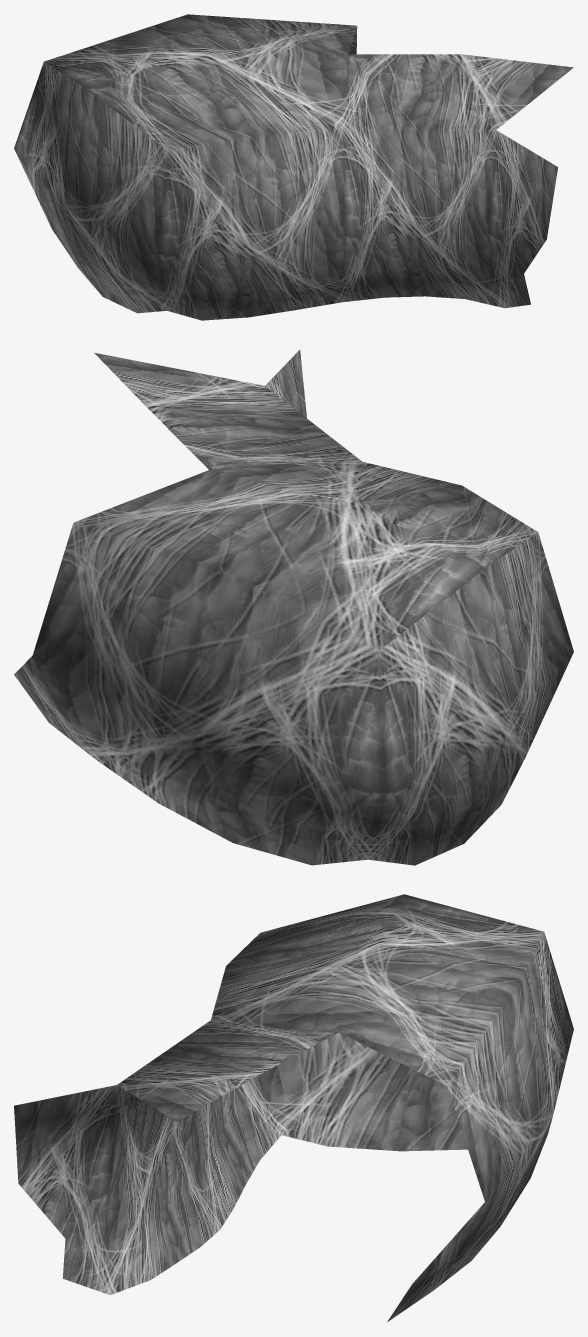
File: SWORDLIGHT20_PS-AREA01_26.fbx
The picture shows the model from 3 angles, top to bottom: view 1: azimuth 30°, elevation 25°; view 2: azimuth 150°, elevation 25°; view 3: azimuth 270°, elevation 25°; orthographic projection. The views are drawn at different scales.
Parts seen in each view (by area): view 1: SWORDLIGHT20_PS-AREA01_26; view 2: SWORDLIGHT20_PS-AREA01_26; view 3: SWORDLIGHT20_PS-AREA01_26.
Boxes of the visible parts, left/top/right/bottom form: SWORDLIGHT20_PS-AREA01_26: left=14, top=14, right=573, bottom=320; SWORDLIGHT20_PS-AREA01_26: left=14, top=350, right=573, bottom=865; SWORDLIGHT20_PS-AREA01_26: left=14, top=894, right=573, bottom=1321.
Bounding box in the file's own units: 116615 × 61299 × 118351.
Materials: 1 (1 with a texture image).
